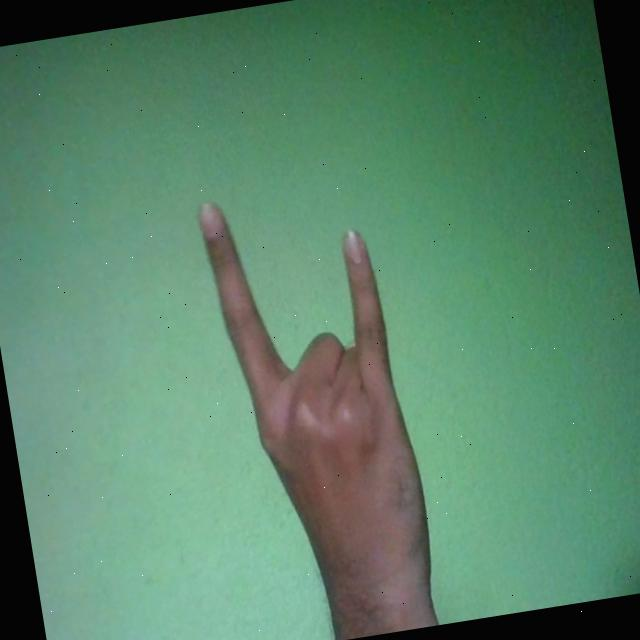open Plam: (195, 172, 445, 640)
